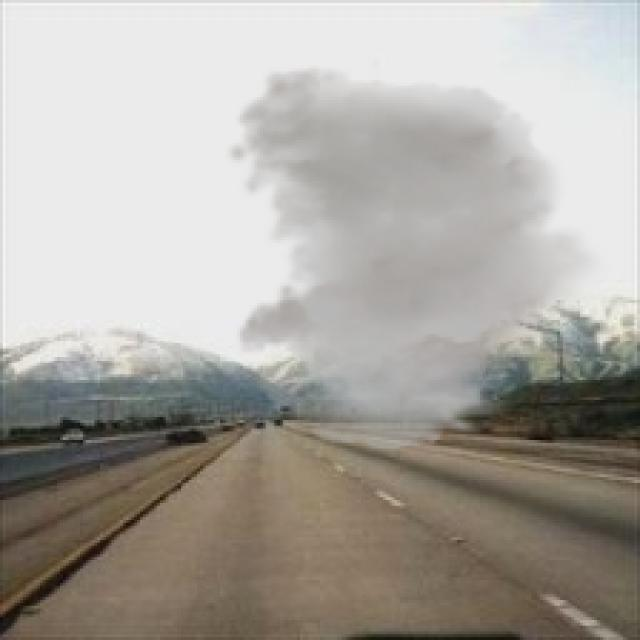smoke: (226, 66, 611, 448)
